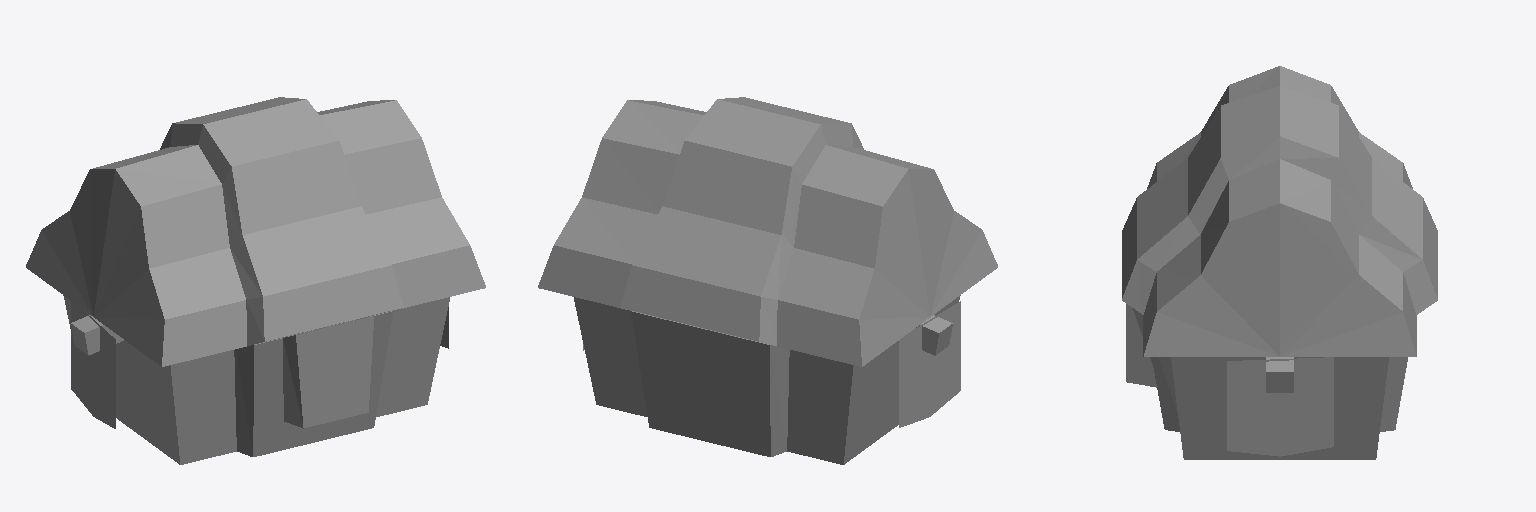
Rendered from chest.obj.
The picture shows the model from 3 angles: view 1: azimuth 30°, elevation 25°; view 2: azimuth 150°, elevation 25°; view 3: azimuth 270°, elevation 25°; orthographic projection.
Parts seen in each view (by area): view 1: chest; view 2: chest; view 3: chest.
Boxes of the visible parts, <box> form: chest: <box>26,97,485,464</box>; chest: <box>538,97,997,464</box>; chest: <box>1122,66,1437,459</box>.
Size of the model in its own units: 1.7 by 1.32 by 1.31.